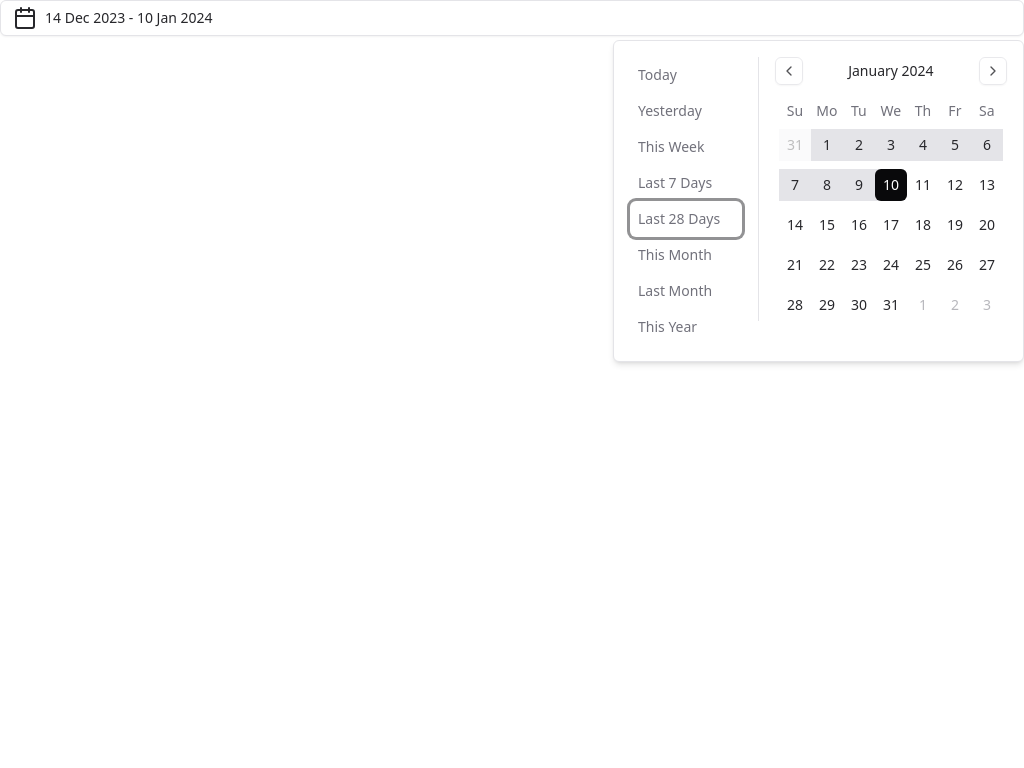
Test: updates the range when selecting a preset
The image size is (1024, 768).
expect the button "14 Dec 2023 - 10 Jan 2024" is shown: met, box 0,0 -> 1023,36
Click the radio button labelled "Today" at (686, 75), box 630,57 -> 742,93
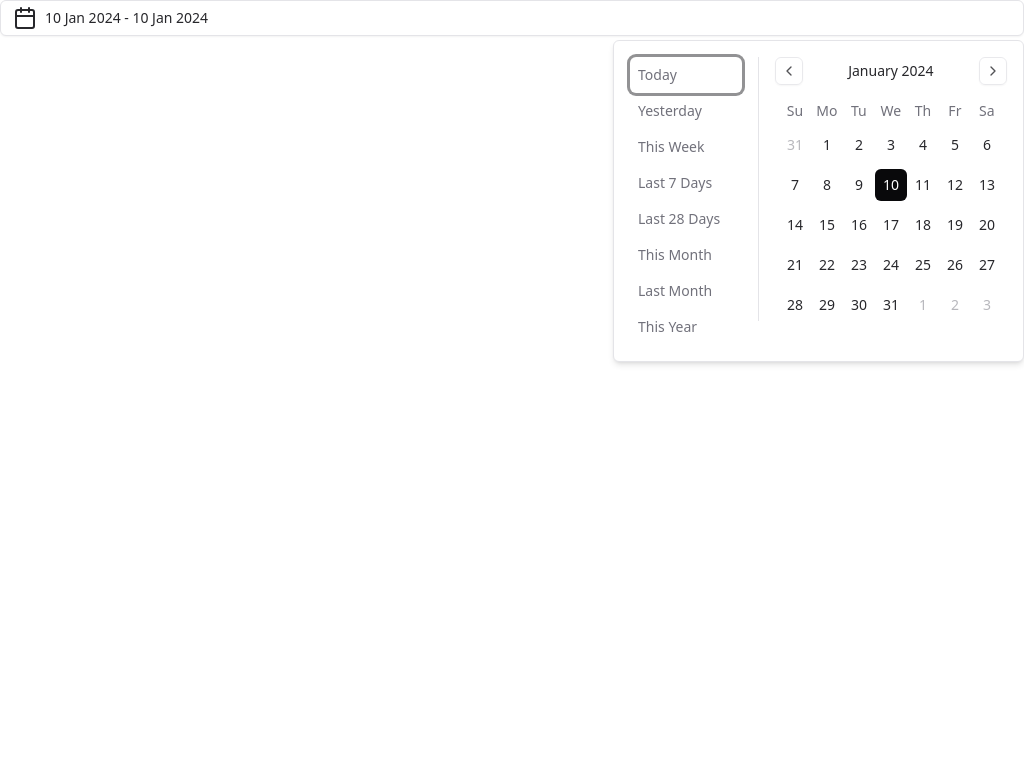
expect the button "10 Jan 2024 - 10 Jan 2024" is shown: met, box 0,0 -> 1023,36
